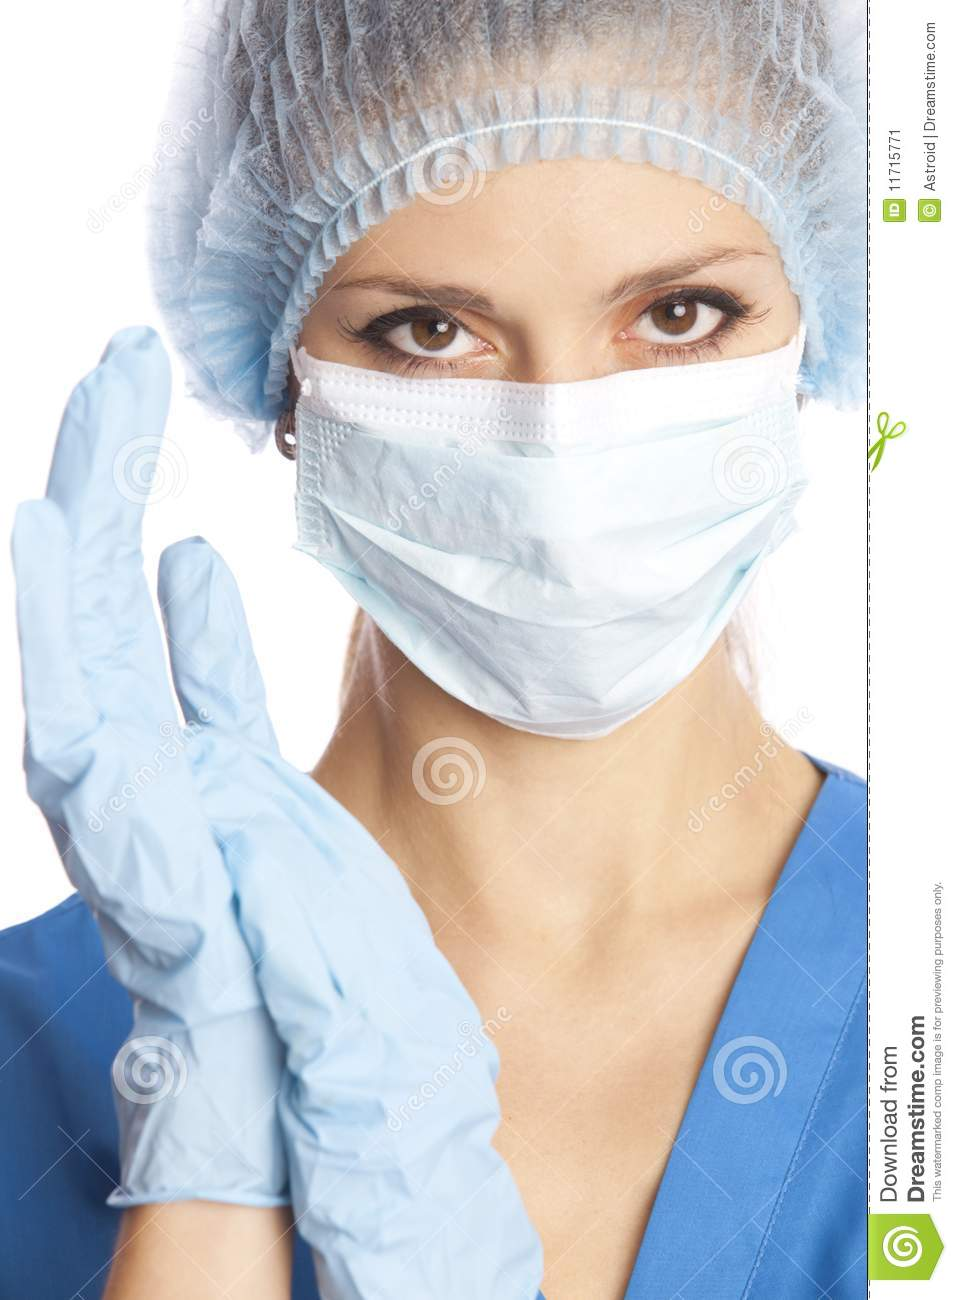mask: (282, 355, 809, 757)
